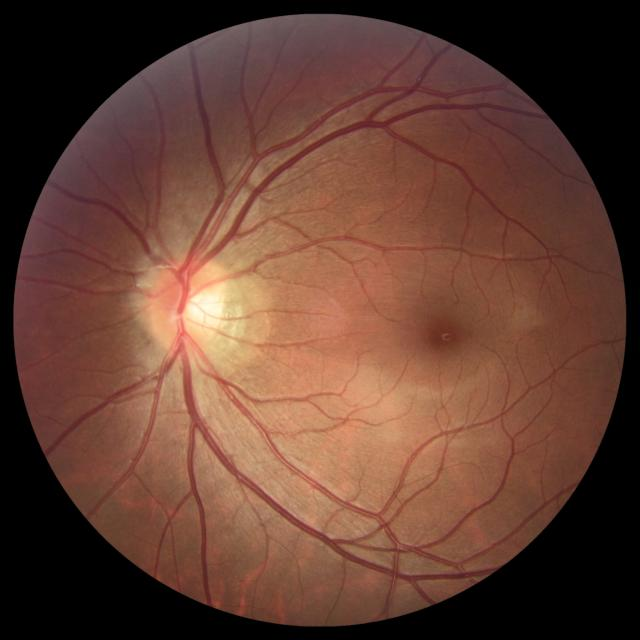OC: (178, 289, 215, 328)
OD: (147, 256, 227, 351)
